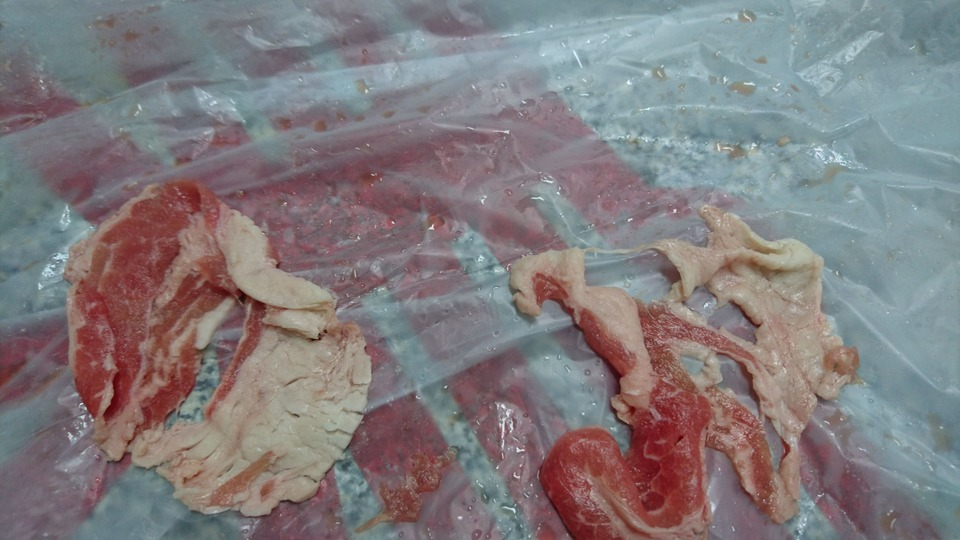restructured meat: (55, 188, 381, 522), (521, 206, 847, 540)
